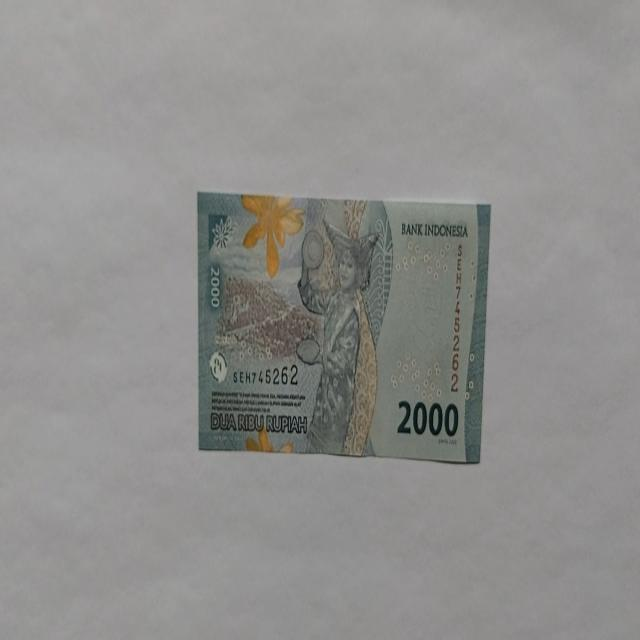dua ribu rupiah: (196, 192, 492, 463), (296, 217, 380, 456)
